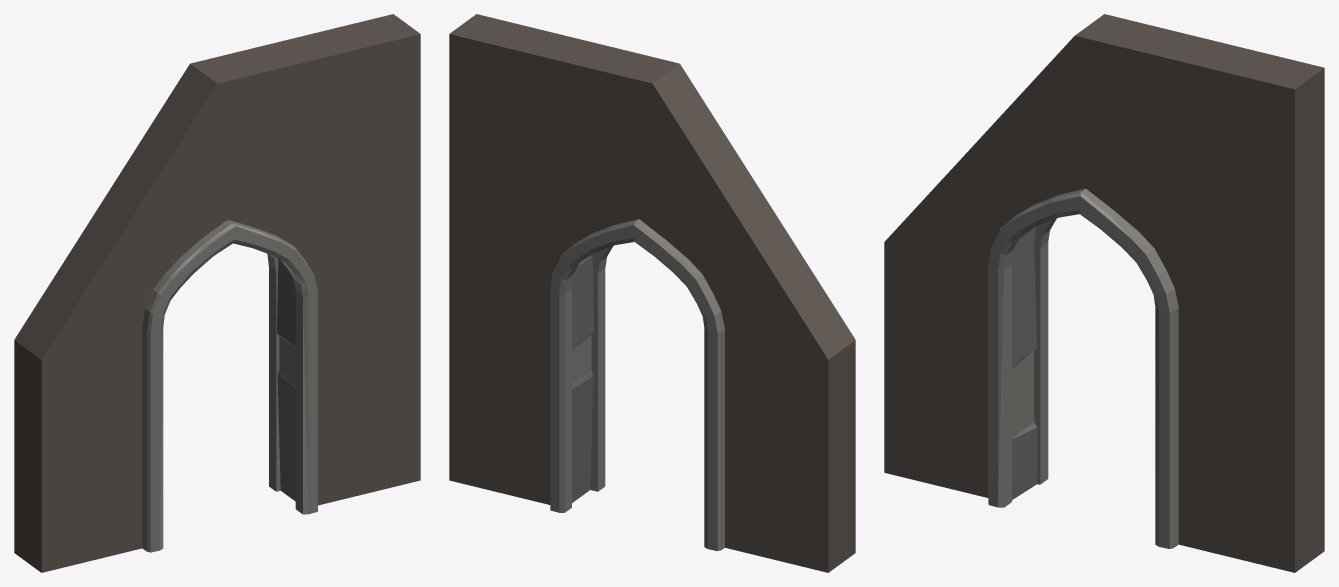
The model's file is MCastle_ArchDoors_08.FBX.
The picture shows the model from 3 angles, left to right: view 1: azimuth 30°, elevation 25°; view 2: azimuth 150°, elevation 25°; view 3: azimuth 330°, elevation 25°; orthographic projection. The views are drawn at different scales.
Parts seen in each view (by area): view 1: MCastle_ArchDoors_08_LOD0; view 2: MCastle_ArchDoors_08_LOD0; view 3: MCastle_ArchDoors_08_LOD0.
Part boxes in pixels (x1,y1,x2,y2): MCastle_ArchDoors_08_LOD0: (14, 14, 420, 572); MCastle_ArchDoors_08_LOD0: (449, 14, 855, 572); MCastle_ArchDoors_08_LOD0: (884, 14, 1324, 572).
Size of what is drawn, in the model's own units: 4 by 4.5 by 0.7264.
